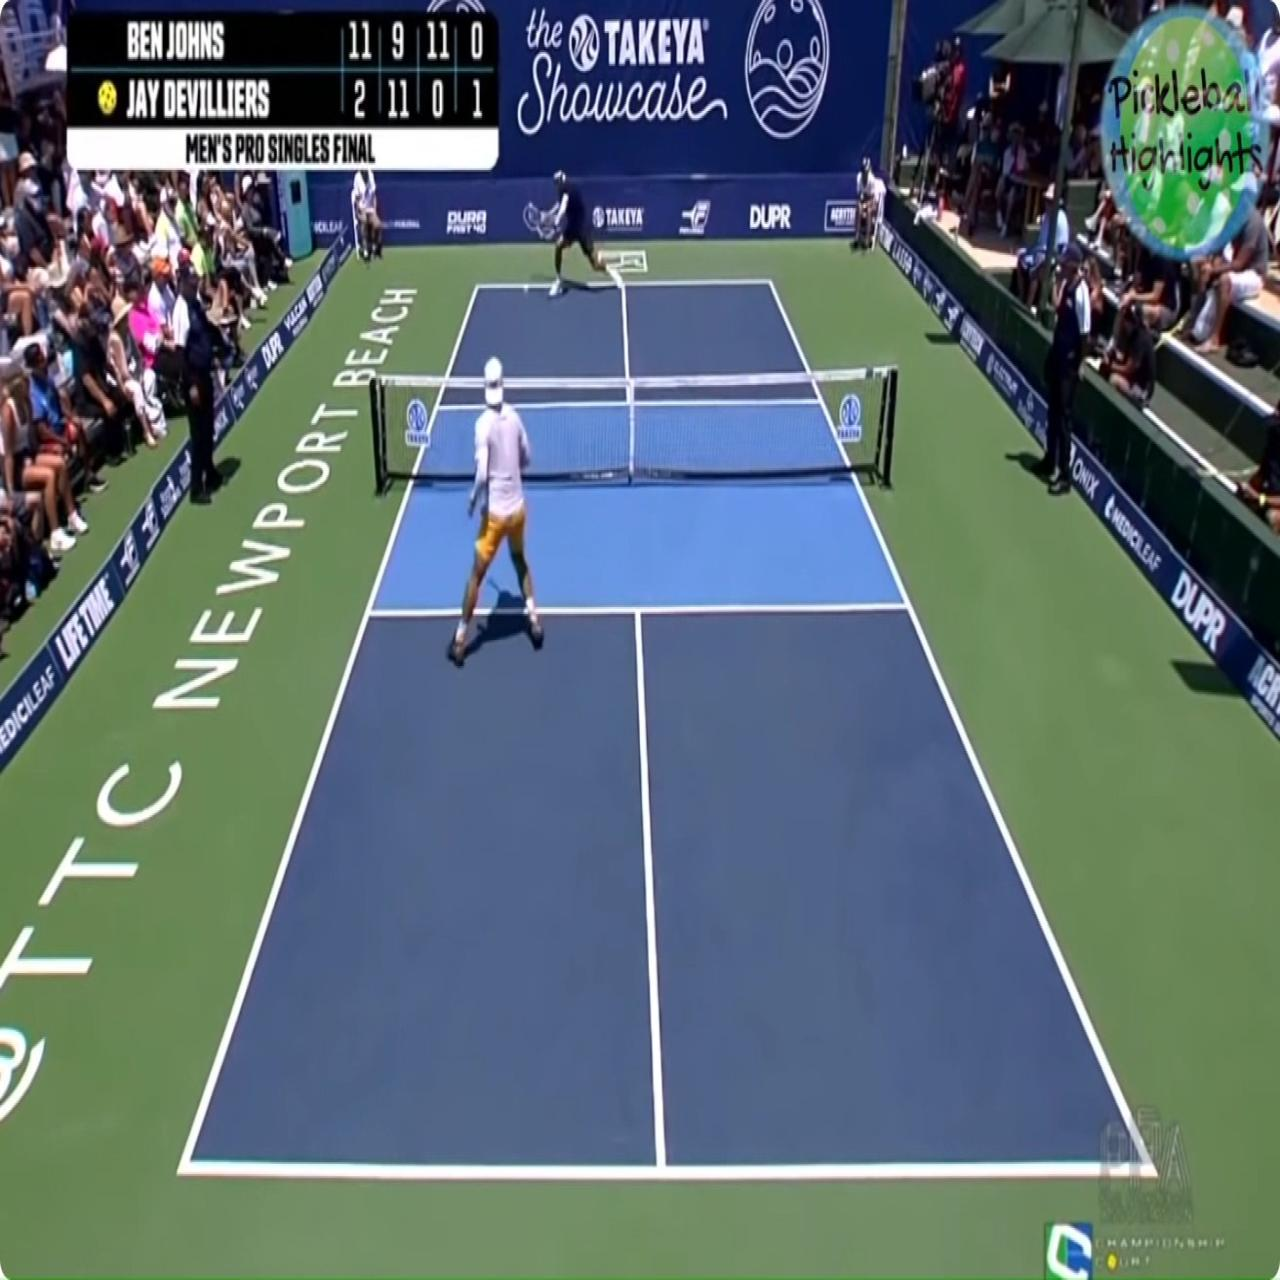pickleball: (524, 282, 530, 293)
